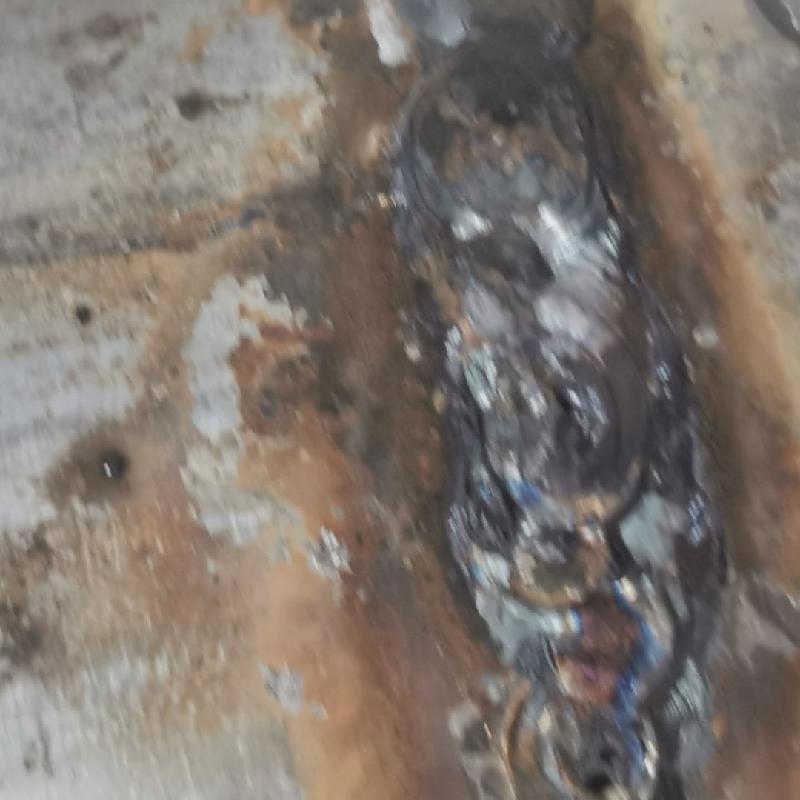wrong_size: (383, 4, 658, 332)
